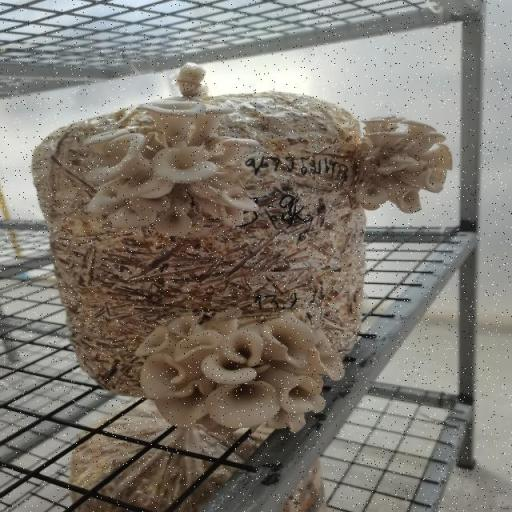White Oyster Mushroom: (66, 97, 275, 249), (128, 304, 341, 434), (363, 109, 458, 221)
